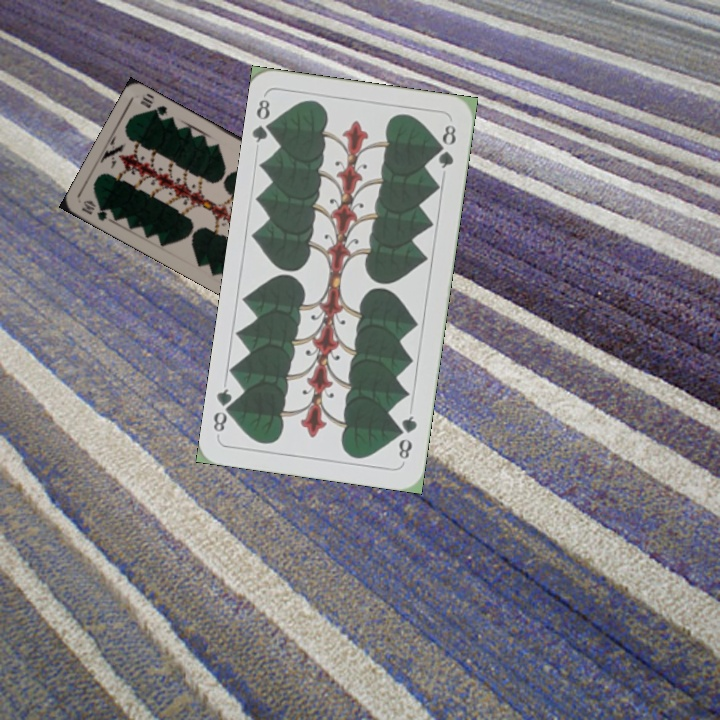G10: (77, 196, 117, 224)
G8: (249, 95, 279, 145), (394, 411, 420, 462)
